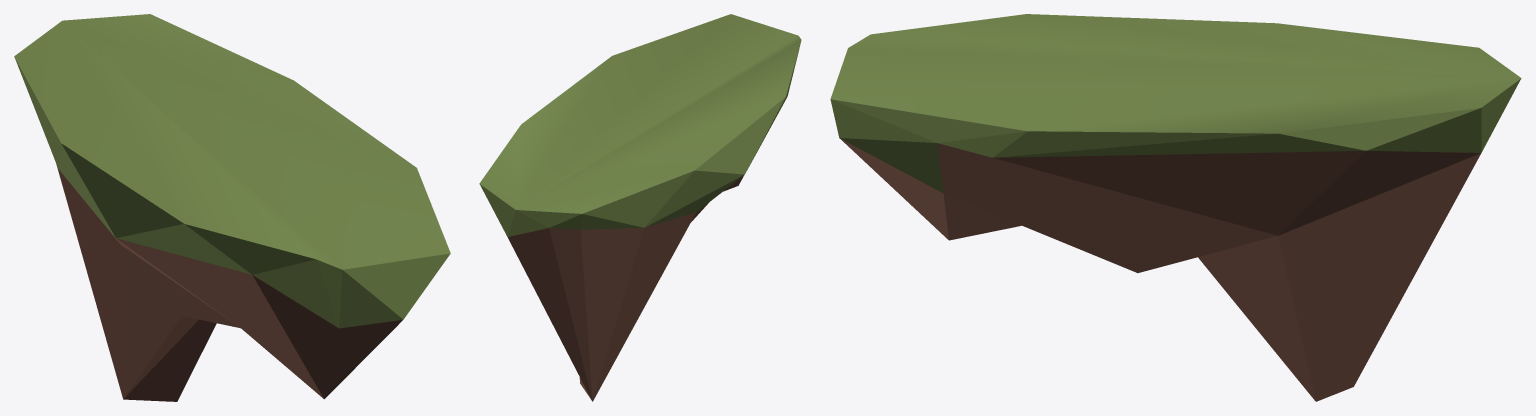
File: lvl2-miniBloqueCentral.fbx
3 renders of one model, left to right at view 1: azimuth 30°, elevation 25°; view 2: azimuth 150°, elevation 25°; view 3: azimuth 270°, elevation 25°, orthographic. The views are drawn at different scales.
Visible parts, largest first — view 1: Icosphere.002; view 2: Icosphere.002; view 3: Icosphere.002.
Boxes of the visible parts, x1,y1,x2,y2 form: Icosphere.002: [14, 14, 450, 401]; Icosphere.002: [479, 14, 801, 401]; Icosphere.002: [830, 14, 1521, 401].
Size of the model in its own units: 1937 by 2505 by 4745.
